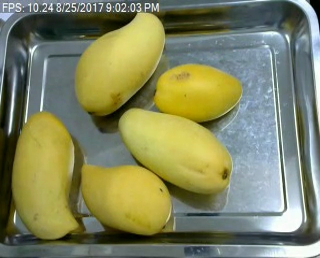Mango: (115, 110, 234, 199), (72, 9, 168, 117), (14, 112, 76, 240), (77, 158, 173, 236), (152, 60, 244, 122)
